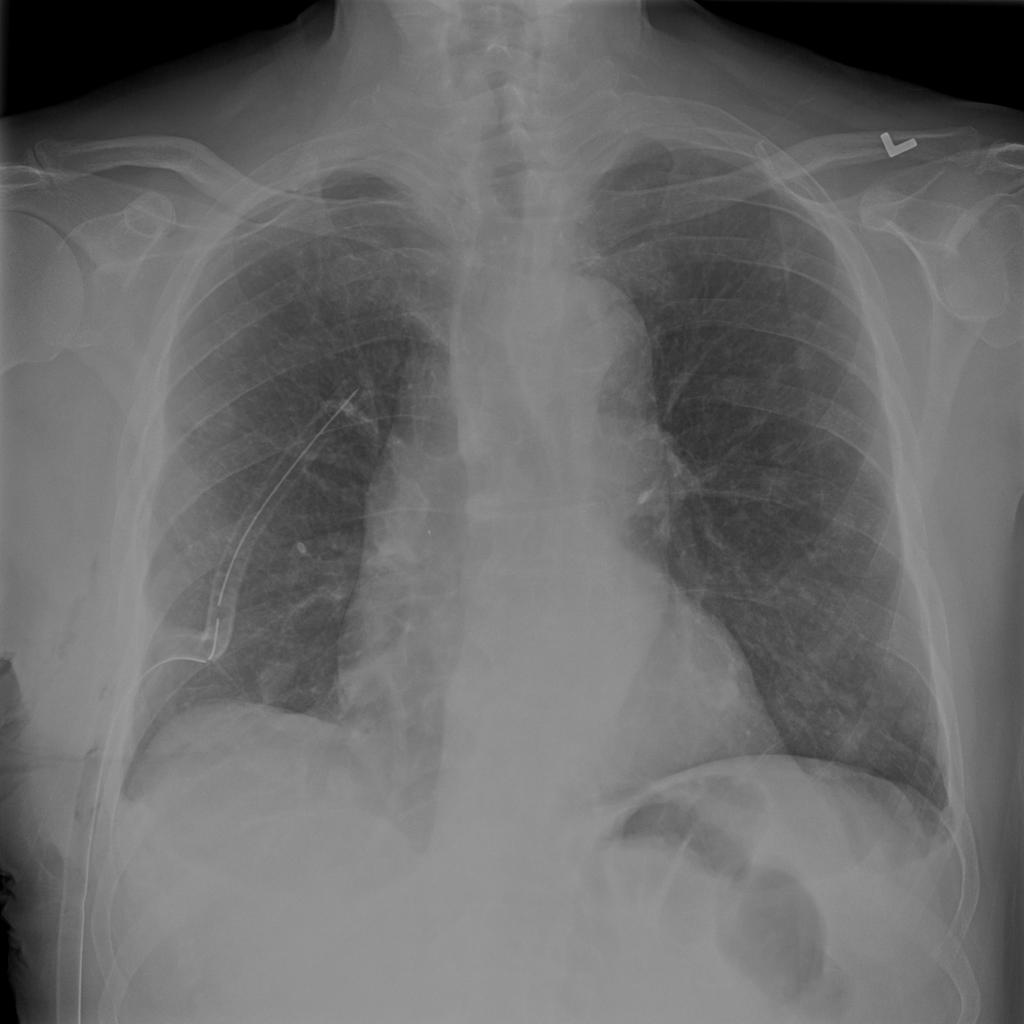nodule: (814, 691, 884, 769), (243, 643, 313, 713), (891, 694, 938, 749), (821, 499, 873, 548), (782, 331, 831, 382), (700, 669, 751, 718), (755, 208, 808, 255), (758, 422, 808, 471), (709, 362, 759, 410)
